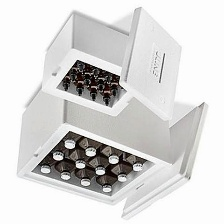foam_box: (12, 82, 214, 224), (37, 3, 186, 124)
